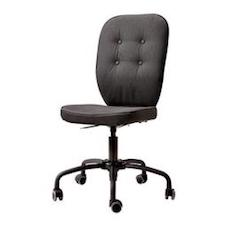chair: (39, 4, 191, 215)
